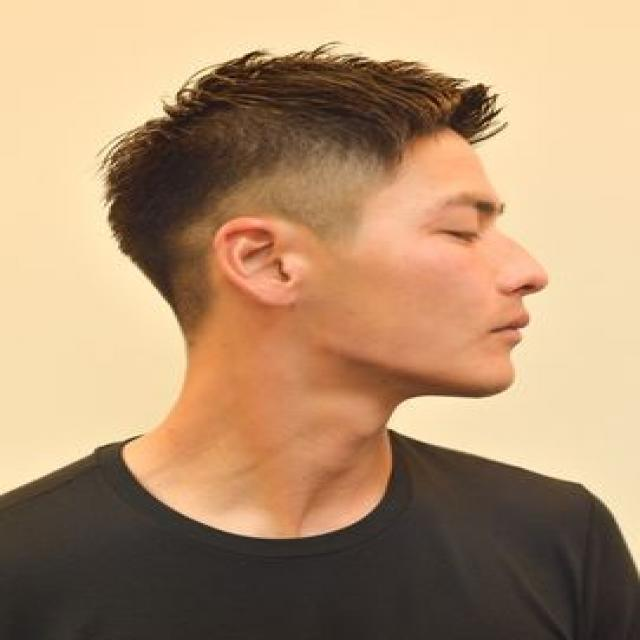Healthy: (134, 295, 484, 524)
